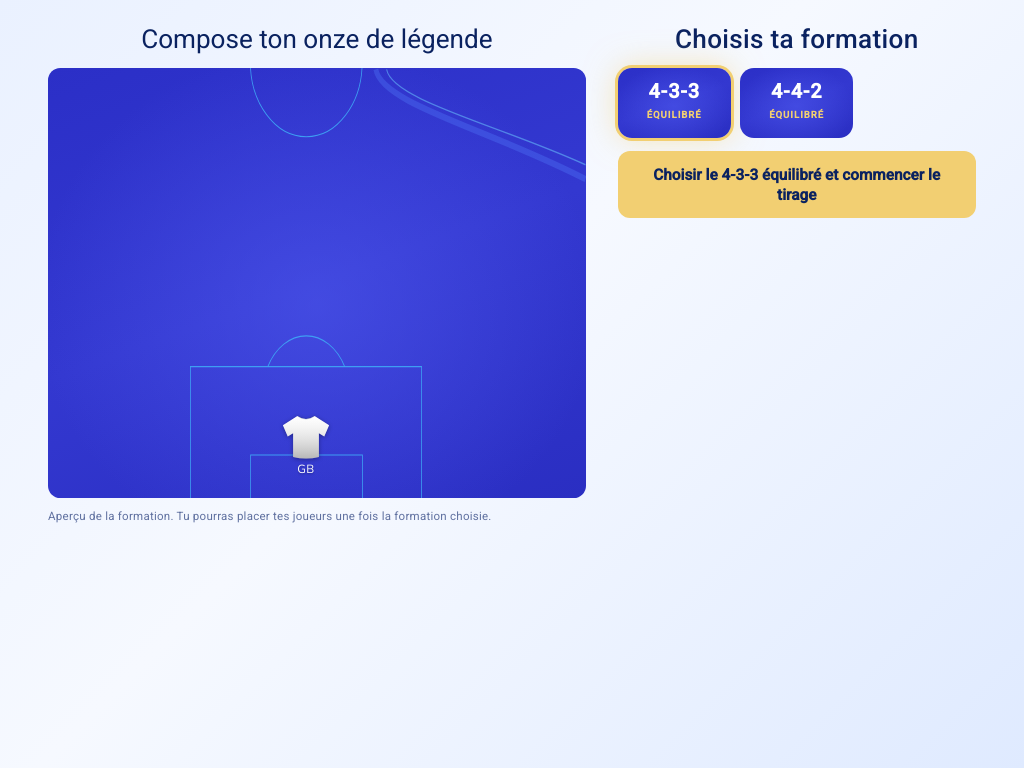
Test: GamePageComponent › updates the pitch when another formation is previewed
Click the button with class "formation" showing "4-4-2 Équilibré" at (797, 103), box left=740, top=68, right=853, bottom=138
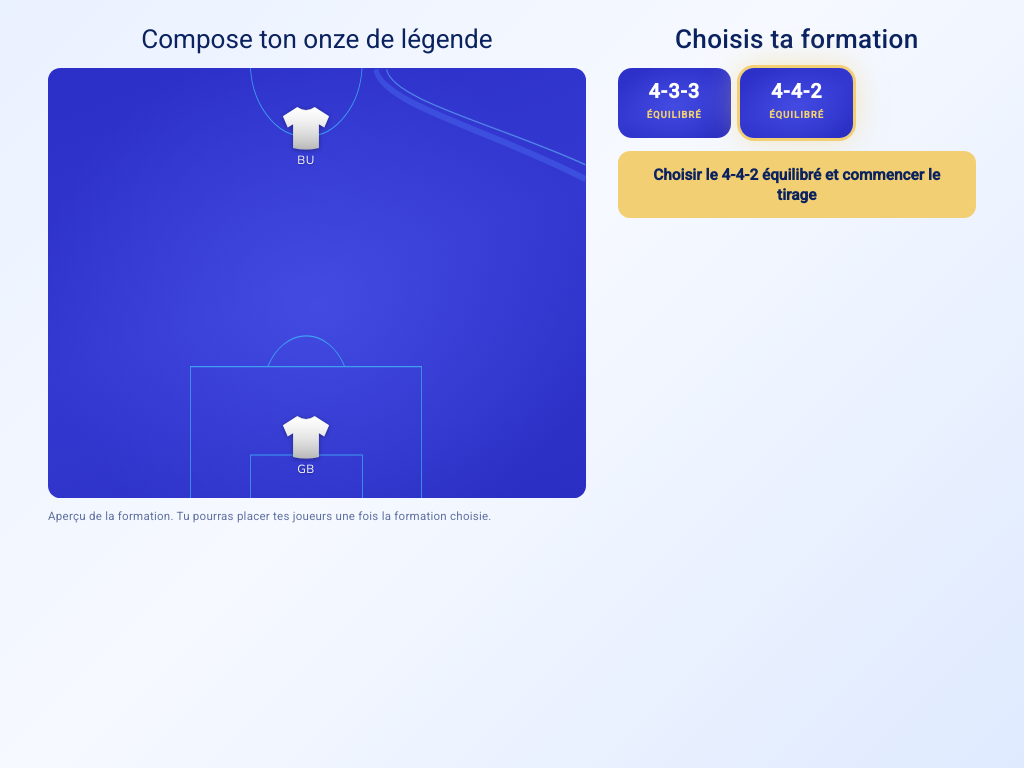
Check: the number of list items with class "slot" is 2, box left=281, top=105, right=331, bottom=167; left=281, top=415, right=331, bottom=477
